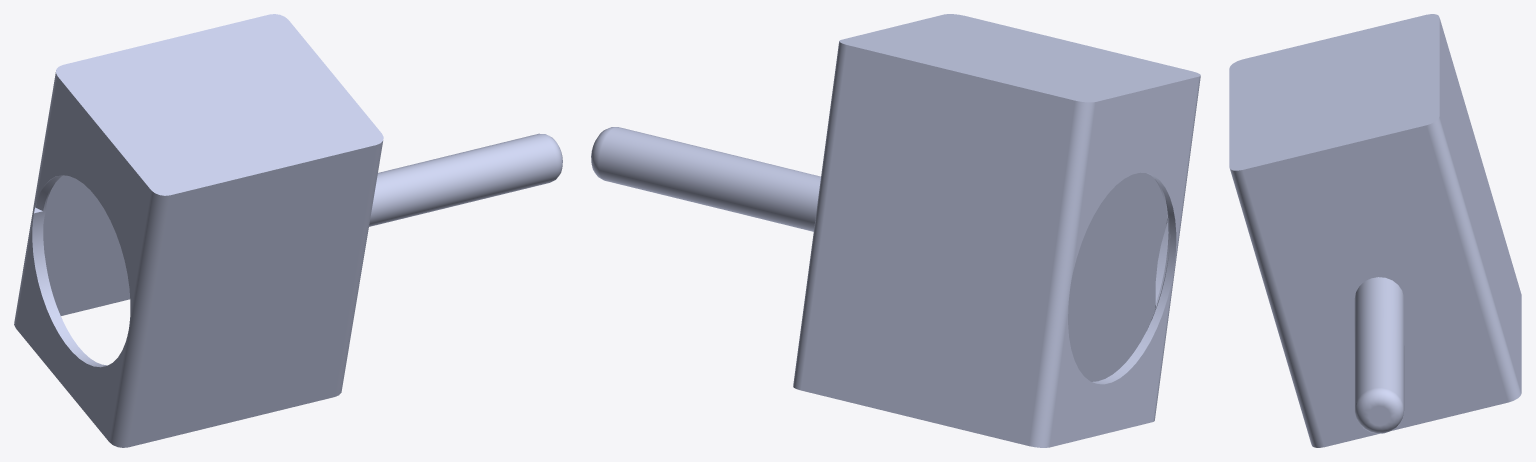
File: body143_visual.obj
3 views of the same model, side by side, from view 1: azimuth 30°, elevation 25°; view 2: azimuth 150°, elevation 25°; view 3: azimuth 270°, elevation 25° (orthographic). The views are drawn at different scales.
Parts seen in each view (by area): view 1: Body143; view 2: Body143; view 3: Body143.
Boxes of the visible parts, left/top/right/bottom form: Body143: left=14, top=14, right=562, bottom=447; Body143: left=591, top=14, right=1200, bottom=447; Body143: left=1229, top=14, right=1521, bottom=447.
Size of the model in its own units: 0.975 by 0.6576 by 0.5304.
